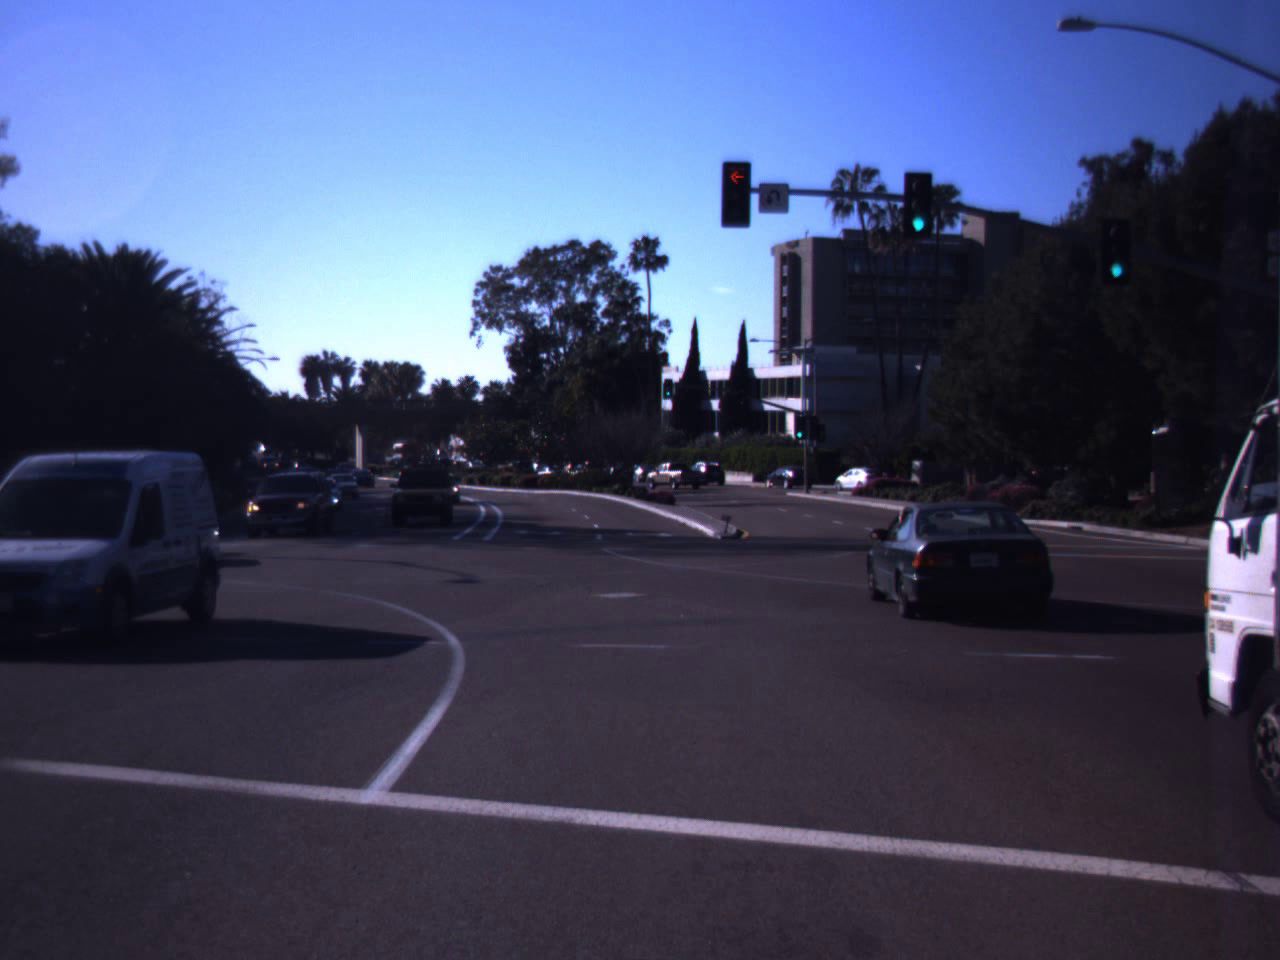go: (1094, 209, 1139, 284), (901, 163, 934, 238)
stop: (711, 162, 765, 225)
